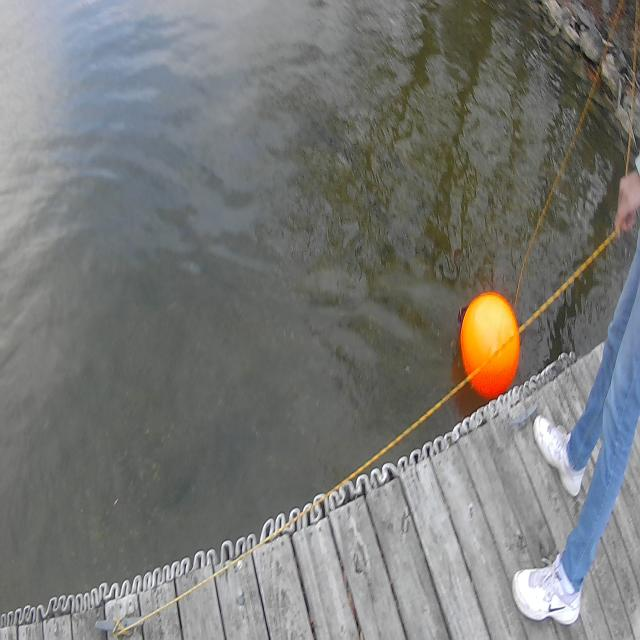Buoy: (460, 291, 520, 399)
